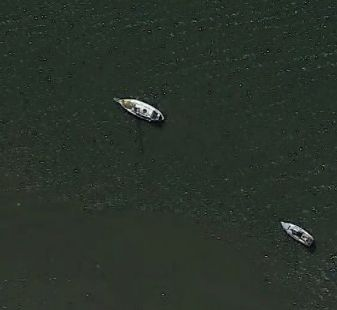boat: (116, 97, 166, 124), (280, 219, 315, 248)
